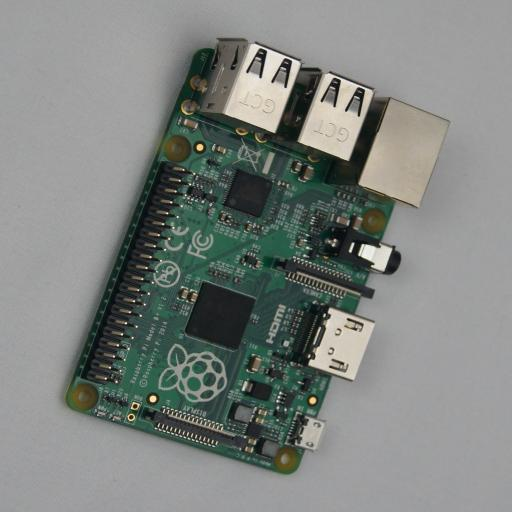Raspberry Pi 1 B-: (63, 38, 450, 474)
